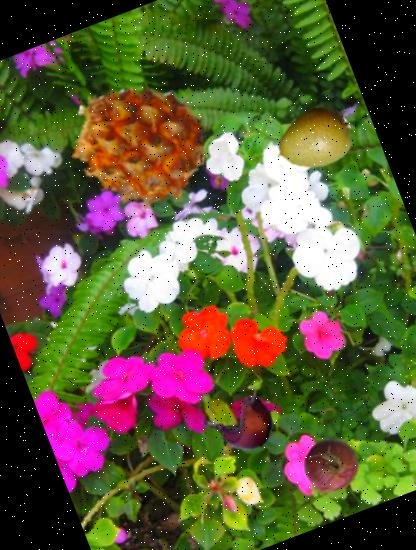Banana: (204, 387, 284, 466)
Onion: (294, 429, 368, 503)
Pear: (264, 92, 363, 190)
Pineapple: (52, 58, 226, 232)
